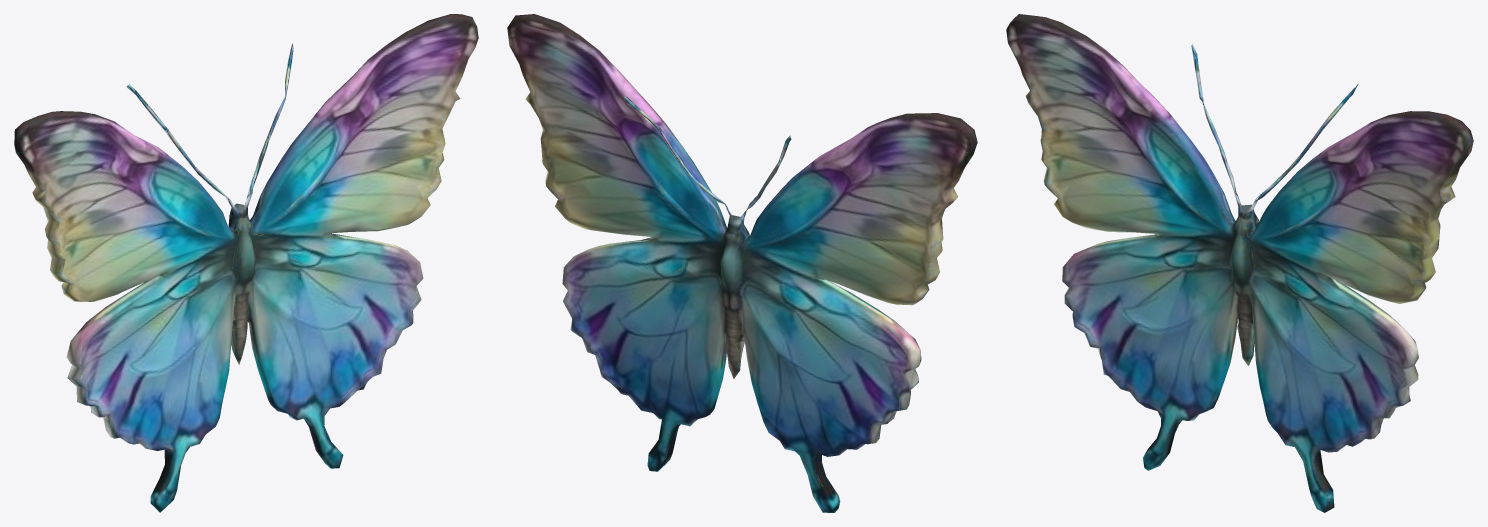
3 renders of one model, left to right at view 1: azimuth 30°, elevation 25°; view 2: azimuth 150°, elevation 25°; view 3: azimuth 330°, elevation 25°, orthographic.
Parts seen in each view (by area): view 1: Mesh1.0; view 2: Mesh1.0; view 3: Mesh1.0.
Boxes of the visible parts, x1,y1,x2,y2 form: Mesh1.0: (14, 14, 478, 512); Mesh1.0: (507, 14, 977, 512); Mesh1.0: (1006, 14, 1473, 512).
Bounding box in the file's own units: 1.92 × 1.68 × 0.2976.
Materials: 1 (1 with a texture image).
